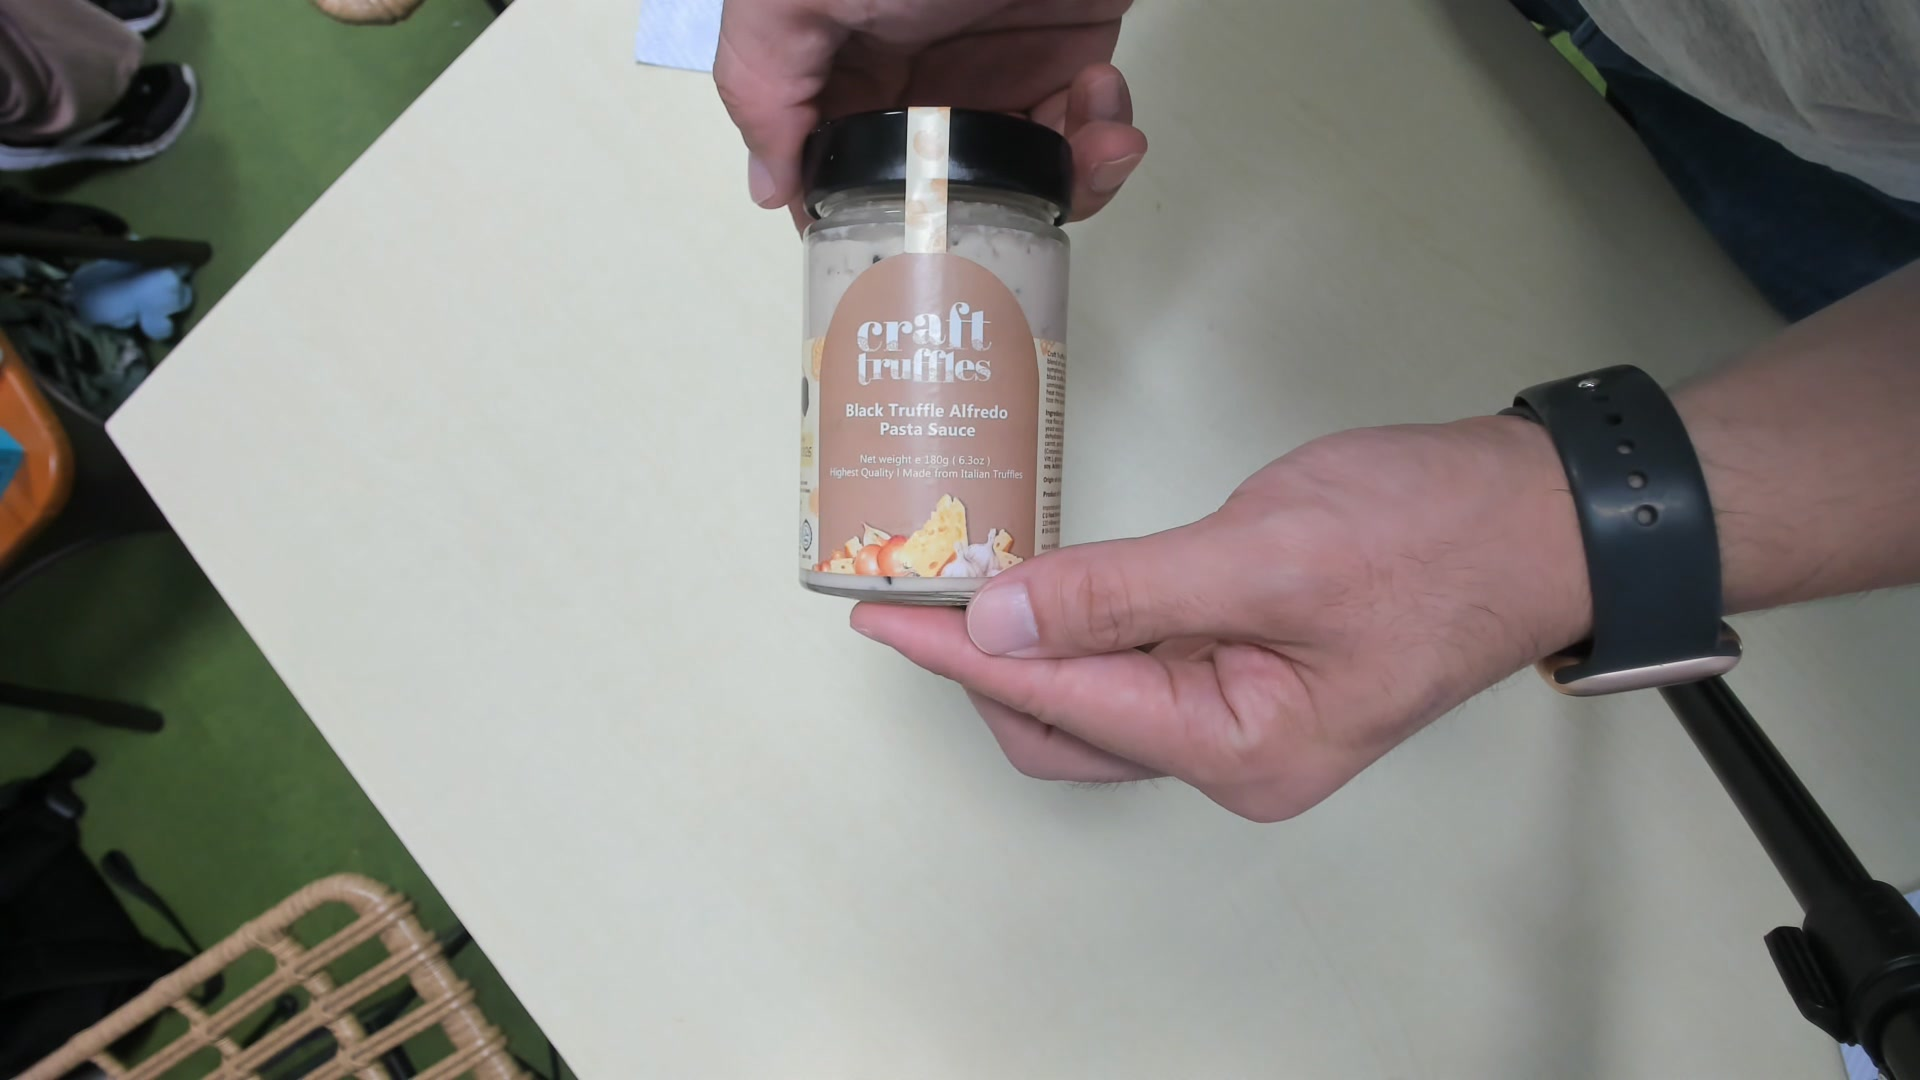PastaSauce_100-199g_Halal_NonHealthy: (793, 102, 1068, 607)
